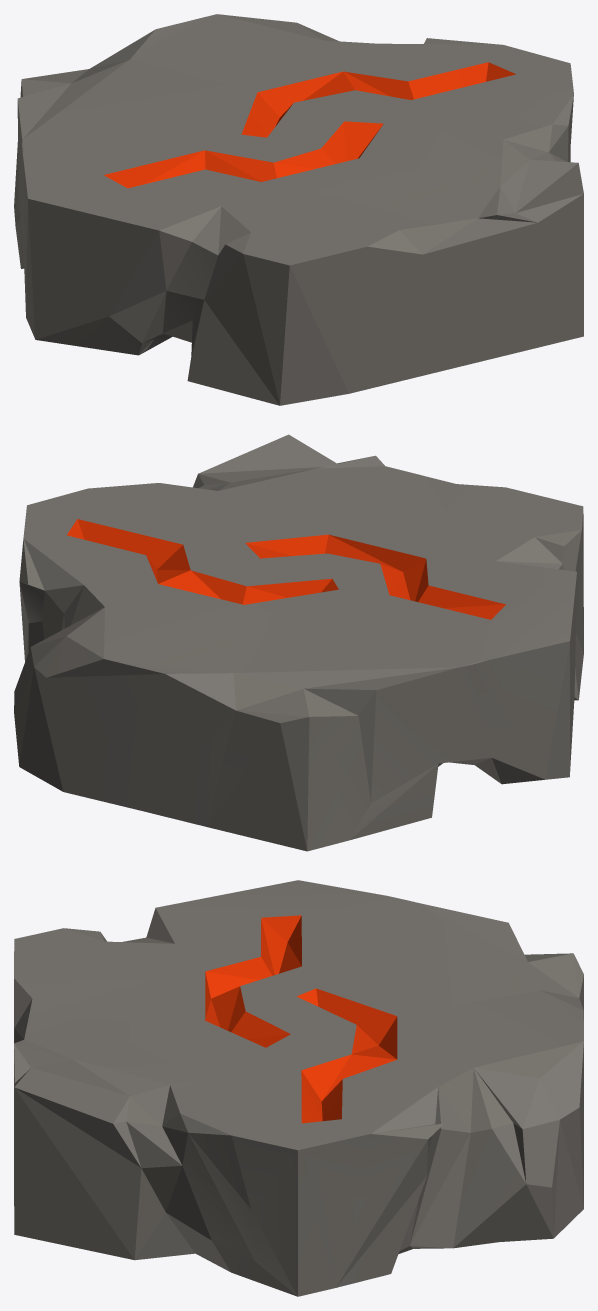
Rendered from SM_Env_Rounded_B_05.glb.
3 views of the same model, one above another, from view 1: azimuth 30°, elevation 25°; view 2: azimuth 150°, elevation 25°; view 3: azimuth 270°, elevation 25° (orthographic). The views are drawn at different scales.
Parts seen in each view (by area): view 1: SM_Env_Rounded_B_05; view 2: SM_Env_Rounded_B_05; view 3: SM_Env_Rounded_B_05.
Part boxes in pixels (x1,y1,x2,y2): SM_Env_Rounded_B_05: [14, 14, 583, 405]; SM_Env_Rounded_B_05: [14, 434, 583, 851]; SM_Env_Rounded_B_05: [14, 880, 583, 1296].
Size of the model in its own units: 2.73 by 0.6886 by 2.41.
Materials: 1 (1 with a texture image).
